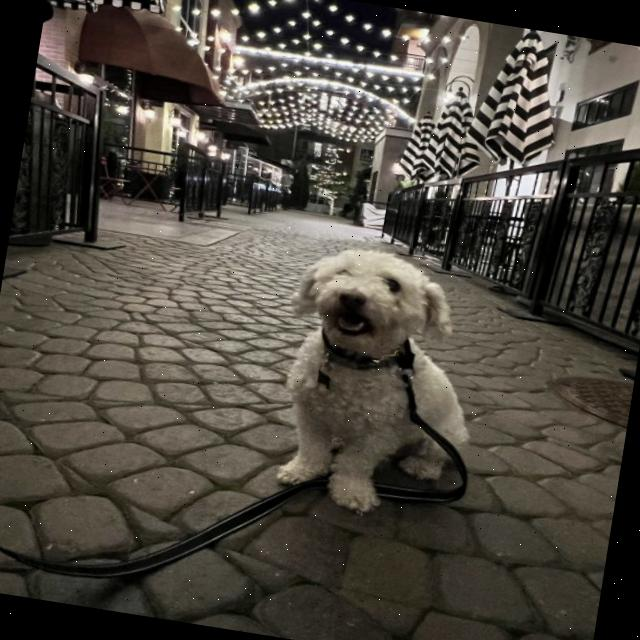Poodle_dog: (266, 226, 478, 384)
